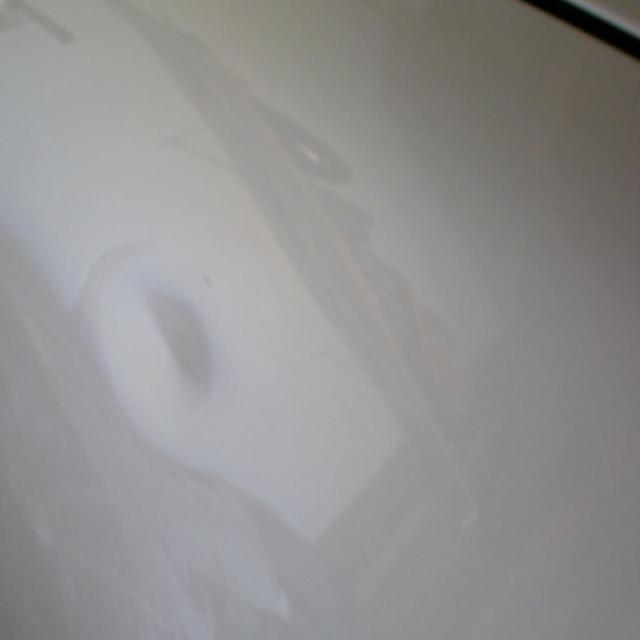dents: (104, 249, 223, 424)
